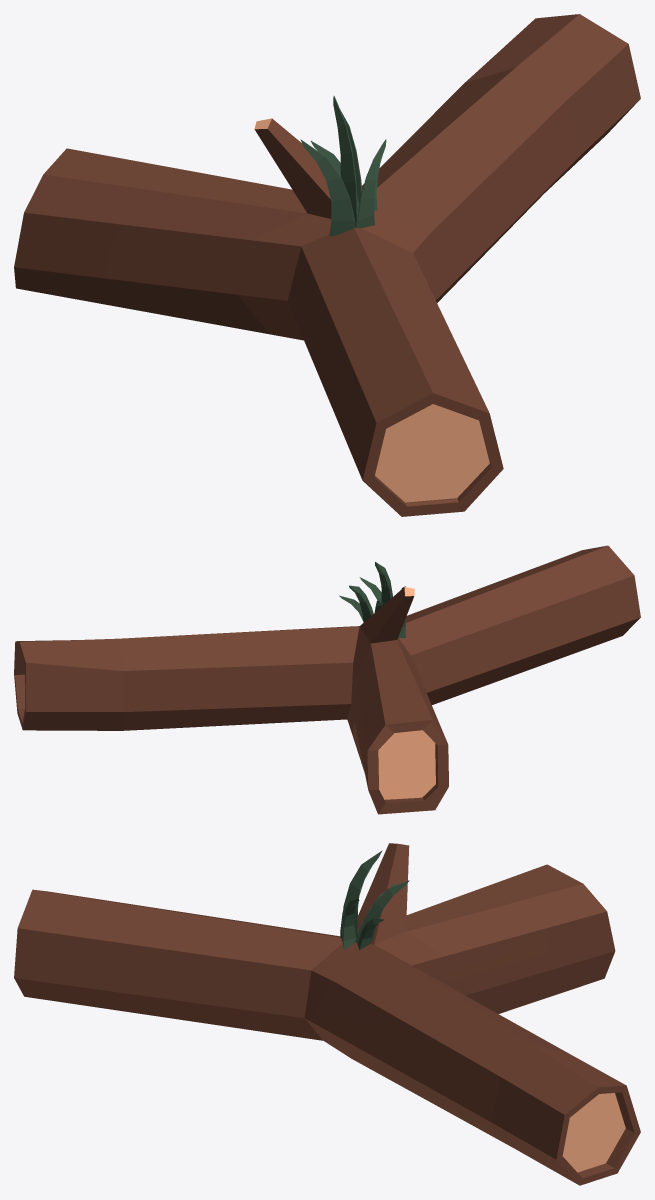
File: wooden_stick3.fbx
The picture shows the model from 3 angles, top to bottom: view 1: azimuth 30°, elevation 25°; view 2: azimuth 150°, elevation 25°; view 3: azimuth 270°, elevation 25°; orthographic projection. The views are drawn at different scales.
Visible parts, largest first — view 1: wooden_stick3; view 2: wooden_stick3; view 3: wooden_stick3.
Boxes of the visible parts, bbox=[...] form: wooden_stick3: bbox=[14, 14, 640, 516]; wooden_stick3: bbox=[14, 545, 640, 814]; wooden_stick3: bbox=[14, 843, 640, 1185].
Bounding box in the file's own units: 1.41 × 0.4975 × 1.52.
